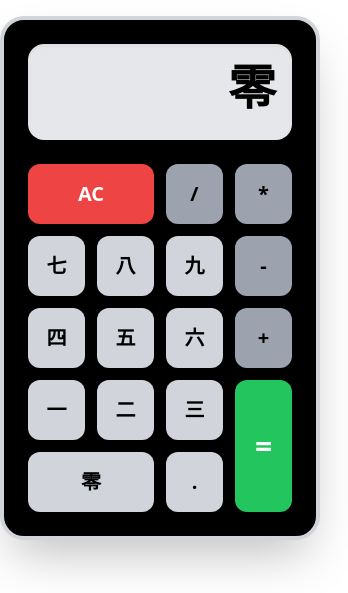
Test: Calculator › calc.inputDigit: inputs multiple digits sequentially
Click the button "一". click: click(56, 410)
box: [28,380,85,440]
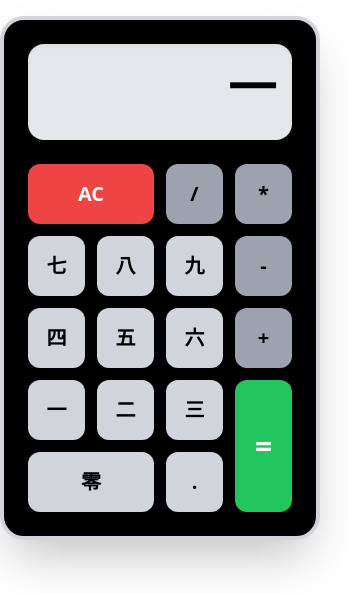
Click the button "二". click: click(126, 410)
box: [97,380,154,440]
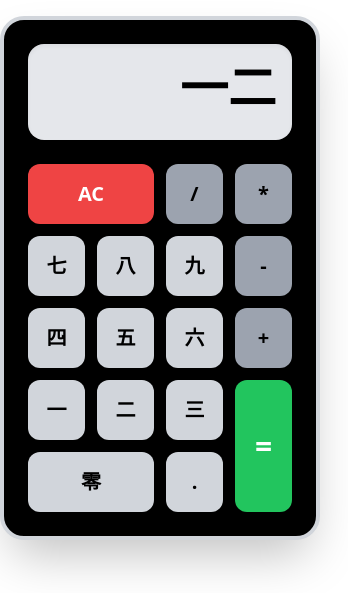
Click the button "三". click: click(194, 410)
box: [166,380,223,440]
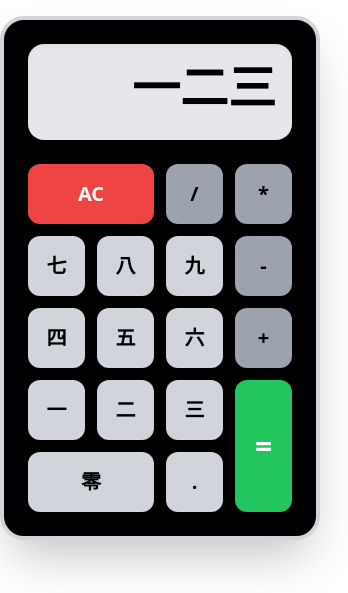
Expected: the text "一二三" is shown, [28,44,292,140]
